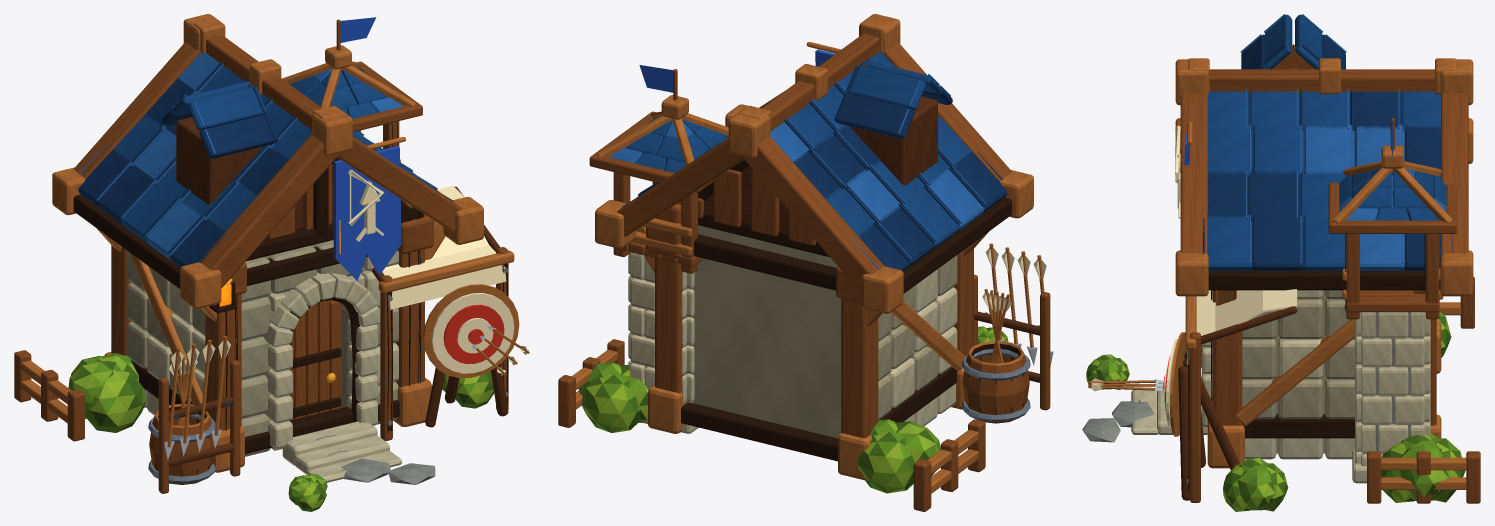
File: archery_range.glb
3 renders of one model, left to right at view 1: azimuth 30°, elevation 25°; view 2: azimuth 150°, elevation 25°; view 3: azimuth 270°, elevation 25°, orthographic. The views are drawn at different scales.
Visible parts, largest first — view 1: Carved roof verge, Cloth heraldic banner, Linen work canopy, Carved roof verge.002, Dormer body, Carved roof verge.001, Corner upright, Ridge timber, Leaf cluster.004, Roof eave, Target ring.006, Corner upright.002 (+82 smaller); view 2: Cottage walls, Carved roof verge.001, Corner upright.001, Corner upright.003, Wall cross beam.001, Carved roof verge.003, Dormer body, Wall cross beam.003, Open barrel staves.001, Ridge timber, Leaf cluster.007, Leaf cluster.011 (+62 smaller); view 3: Ridge timber, Carved roof verge.002, Roof eave.001, Carved roof verge.003, Linen work canopy, Soft edged blue roof tile.037, Corner upright.002, Side wall diagonal.001, Soft edged blue roof tile.036, Soft edged blue roof tile.027, Soft edged blue roof tile.028, Soft edged blue roof tile.032 (+79 smaller).
Boxes of the visible parts, bbox=[...] form: Carved roof verge: bbox=[199, 134, 338, 288]; Cloth heraldic banner: bbox=[333, 146, 401, 280]; Linen work canopy: bbox=[382, 185, 506, 309]; Carved roof verge.002: bbox=[337, 136, 462, 233]; Dormer body: bbox=[176, 117, 262, 204]; Carved roof verge.001: bbox=[73, 42, 199, 178]; Corner upright: bbox=[205, 294, 241, 430]; Ridge timber: bbox=[206, 35, 322, 129]; Leaf cluster.004: bbox=[87, 371, 146, 432]; Roof eave: bbox=[73, 194, 180, 288]; Target ring.006: bbox=[431, 293, 514, 373]; Corner upright.002: bbox=[395, 201, 424, 387]; Cottage walls: bbox=[690, 225, 841, 438]; Carved roof verge.001: bbox=[743, 136, 884, 292]; Corner upright.001: bbox=[841, 298, 878, 437]; Corner upright.003: bbox=[655, 203, 685, 393]; Wall cross beam.001: bbox=[681, 402, 837, 461]; Carved roof verge.003: bbox=[617, 138, 744, 236]; Dormer body: bbox=[850, 96, 937, 185]; Wall cross beam.003: bbox=[694, 234, 836, 290]; Open barrel staves.001: bbox=[962, 350, 1029, 423]; Ridge timber: bbox=[734, 34, 879, 146]; Leaf cluster.007: bbox=[856, 431, 914, 493]; Leaf cluster.011: bbox=[582, 374, 640, 432]; Ridge timber: bbox=[1209, 69, 1434, 93]; Carved roof verge.002: bbox=[1180, 93, 1207, 253]; Roof eave.001: bbox=[1208, 270, 1440, 290]; Carved roof verge.003: bbox=[1441, 93, 1468, 253]; Linen work canopy: bbox=[1187, 289, 1297, 364]; Soft edged blue roof tile.037: bbox=[1252, 214, 1302, 270]; Corner upright.002: bbox=[1212, 290, 1242, 425]; Side wall diagonal.001: bbox=[1235, 319, 1354, 426]; Soft edged blue roof tile.036: bbox=[1207, 214, 1252, 270]; Soft edged blue roof tile.027: bbox=[1252, 124, 1302, 176]; Soft edged blue roof tile.028: bbox=[1303, 124, 1353, 173]; Soft edged blue roof tile.032: bbox=[1248, 169, 1298, 221].
Bounding box in the file's own units: 4.09 × 3.7 × 3.61.
38 materials, 26 textured.
